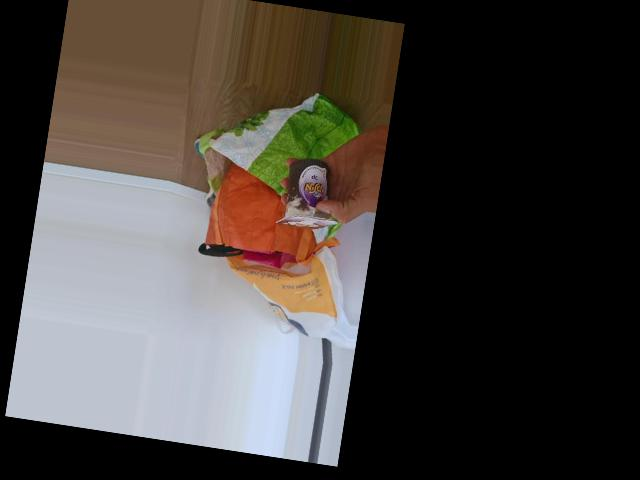milky: (275, 152, 344, 236)
